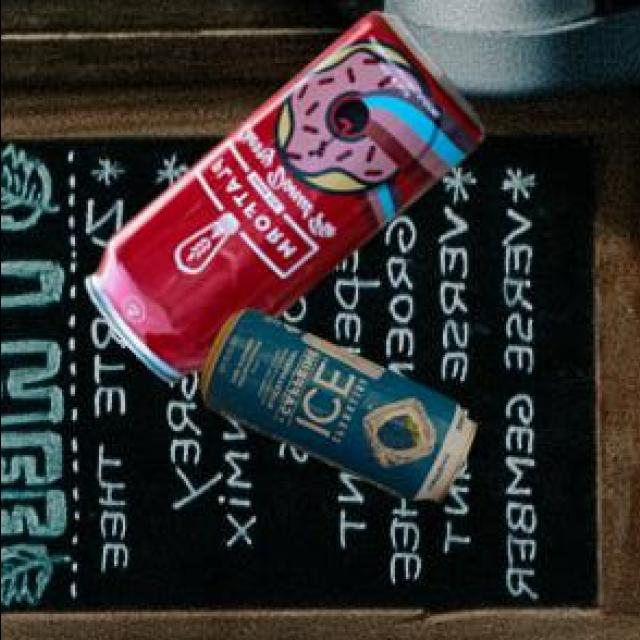logam: (82, 8, 480, 380), (197, 306, 471, 500)
